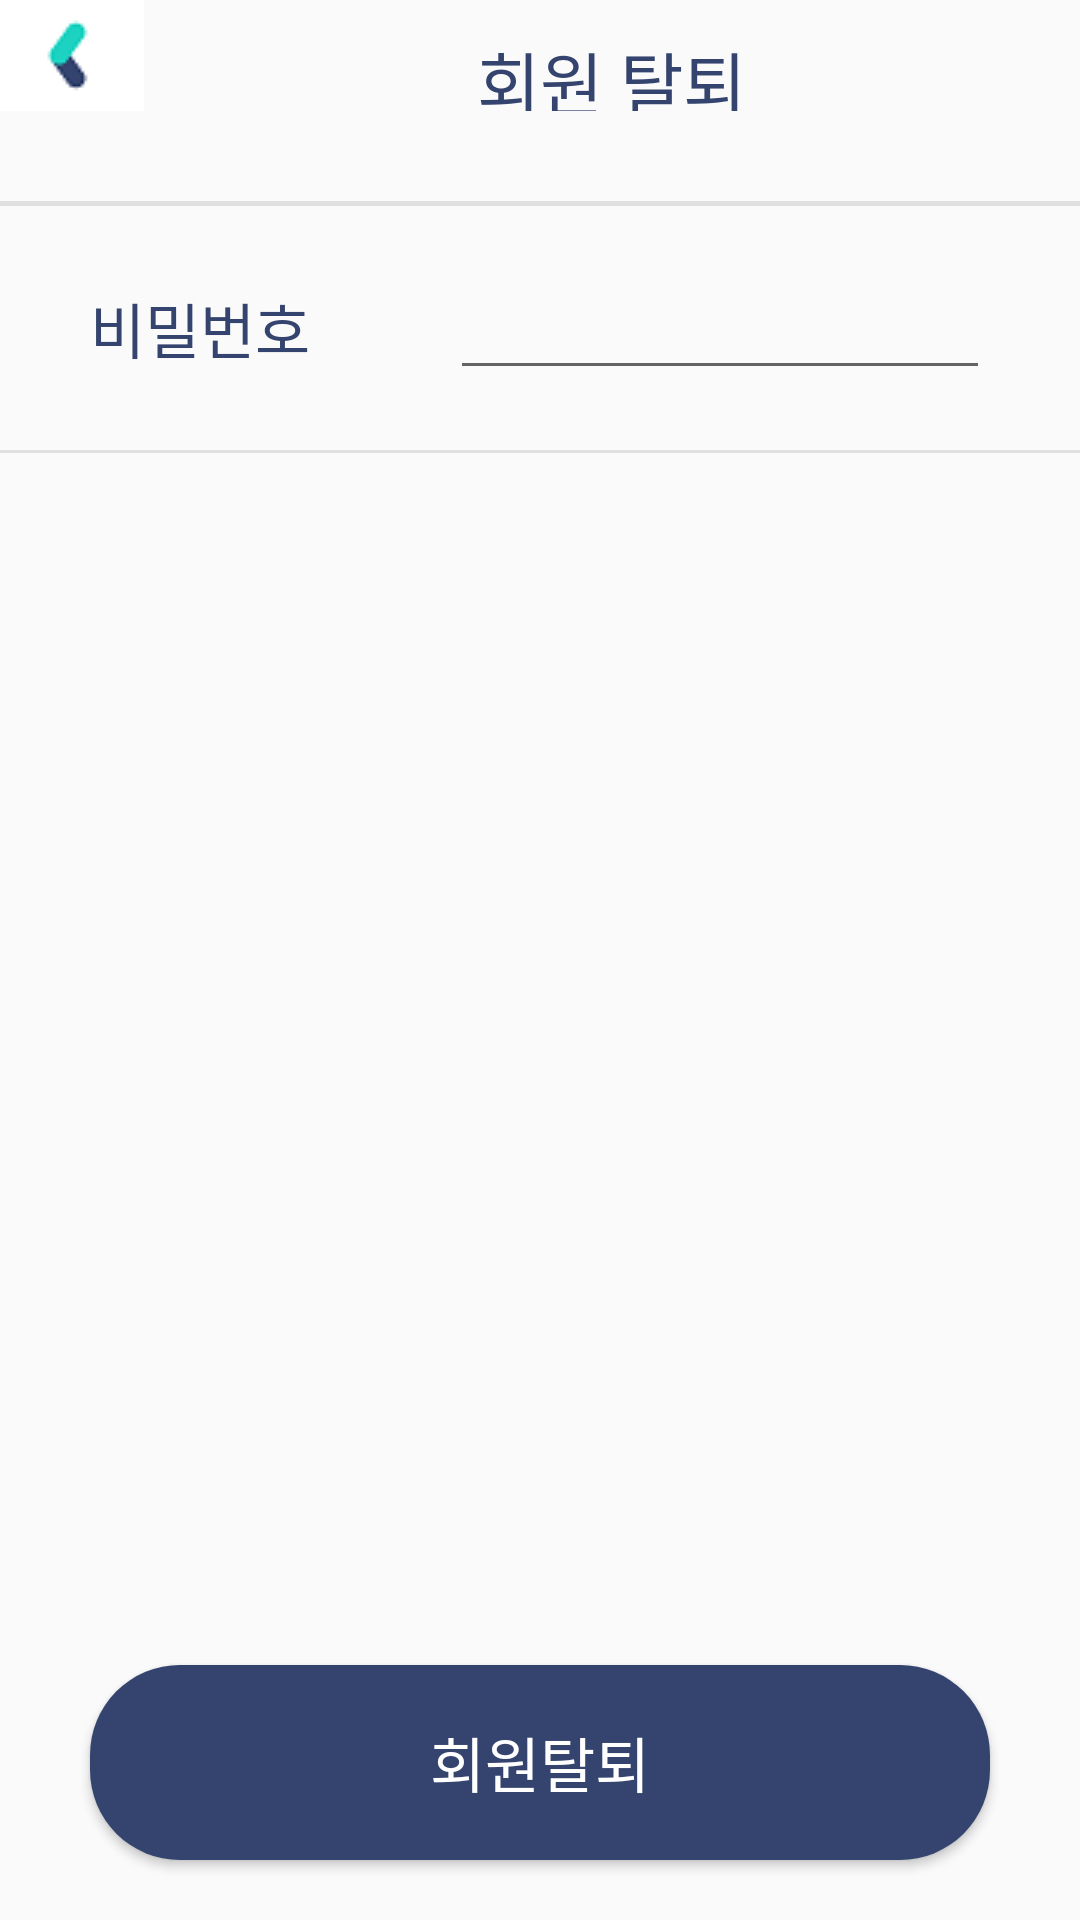

Point at icon controls on the screen. Image size 1080px x 1920px, points as [x,y].
left: [67,55]
